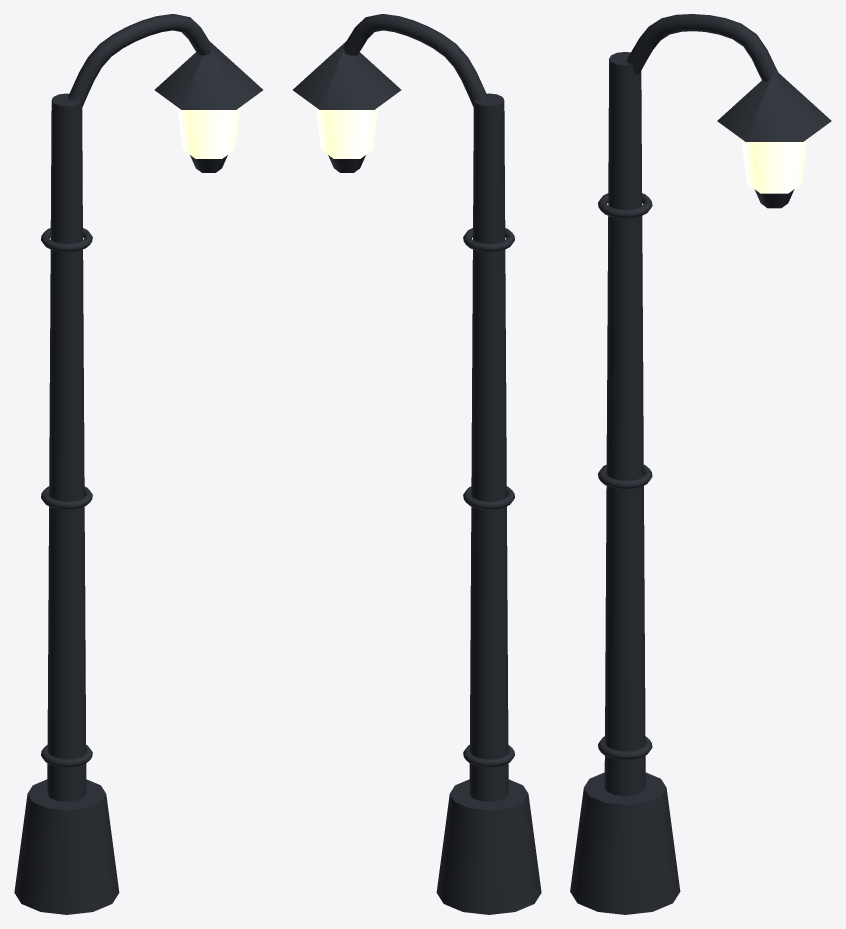
File: sokak-lambasi.glb
3 renders of one model, left to right at view 1: azimuth 30°, elevation 25°; view 2: azimuth 150°, elevation 25°; view 3: azimuth 330°, elevation 25°, orthographic. The views are drawn at different scales.
Visible parts, largest first — view 1: sokak-lambasi; view 2: sokak-lambasi; view 3: sokak-lambasi.
Boxes of the visible parts, x1=… form: sokak-lambasi: x1=14, y1=14, x2=262, y2=914; sokak-lambasi: x1=293, y1=14, x2=541, y2=914; sokak-lambasi: x1=570, y1=14, x2=831, y2=914.
Bounding box in the file's own units: 1.21 × 4.31 × 0.5.
